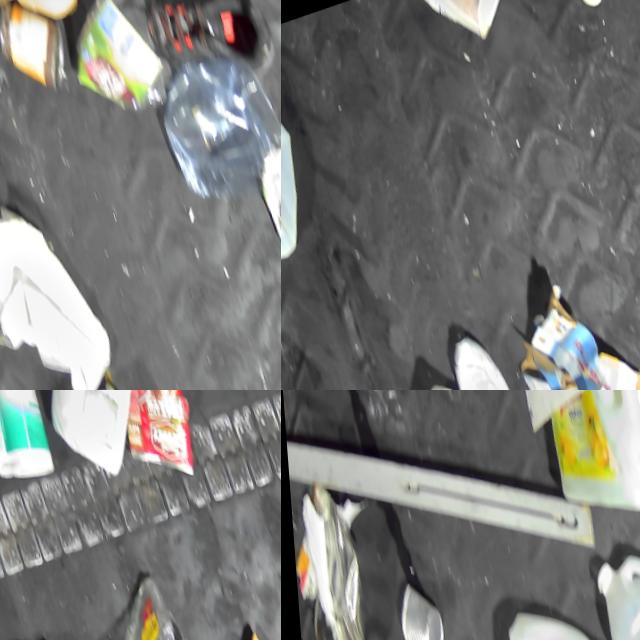can: (104, 390, 213, 502), (0, 0, 78, 105), (376, 568, 454, 640)
milk_jug: (492, 390, 640, 555), (5, 390, 177, 494), (477, 583, 640, 640), (281, 60, 321, 280), (243, 129, 281, 295), (517, 0, 624, 33)
plastic_bottle: (70, 589, 203, 640)
